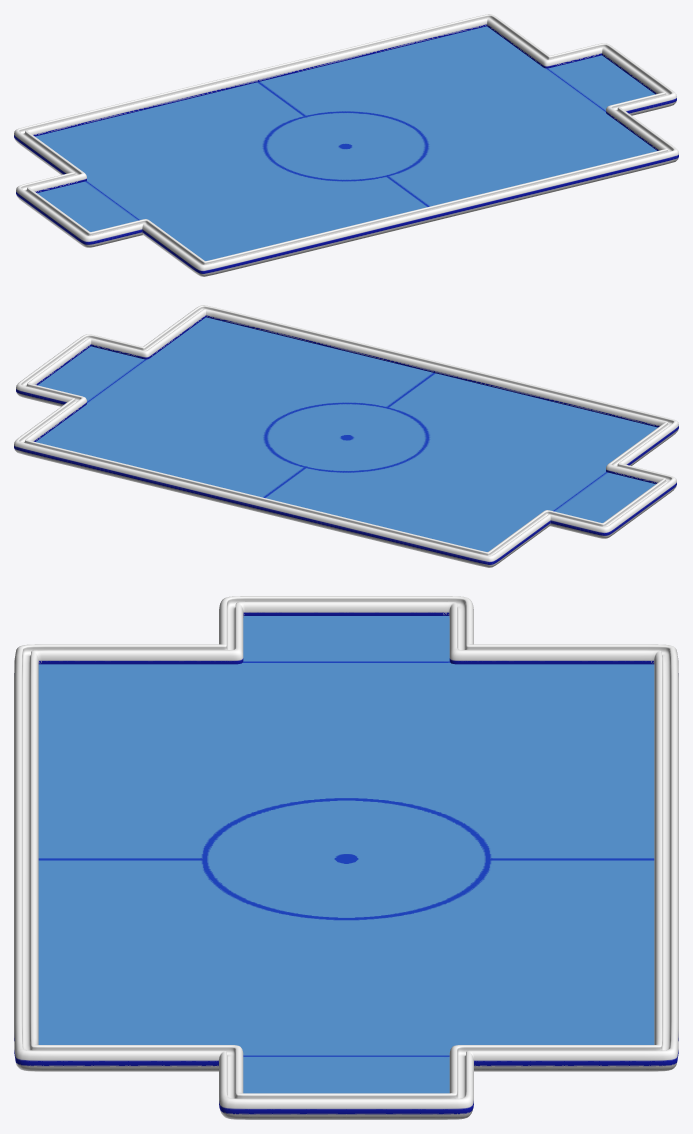
Rendered from TraningTable.fbx.
The picture shows the model from 3 angles, top to bottom: view 1: azimuth 30°, elevation 25°; view 2: azimuth 150°, elevation 25°; view 3: azimuth 270°, elevation 25°; orthographic projection. The views are drawn at different scales.
Parts seen in each view (by area): view 1: TraningTableField, TraningTableBorder; view 2: TraningTableField, TraningTableBorder; view 3: TraningTableField, TraningTableBorder.
Boxes of the visible parts, bbox=[...] form: TraningTableField: bbox=[35, 26, 656, 260]; TraningTableBorder: bbox=[14, 14, 678, 276]; TraningTableField: bbox=[36, 317, 657, 551]; TraningTableBorder: bbox=[14, 305, 678, 567]; TraningTableField: bbox=[38, 616, 654, 1093]; TraningTableBorder: bbox=[14, 596, 678, 1119].
Bounding box in the file's own units: 23.44 × 0.4736 × 12.98.
